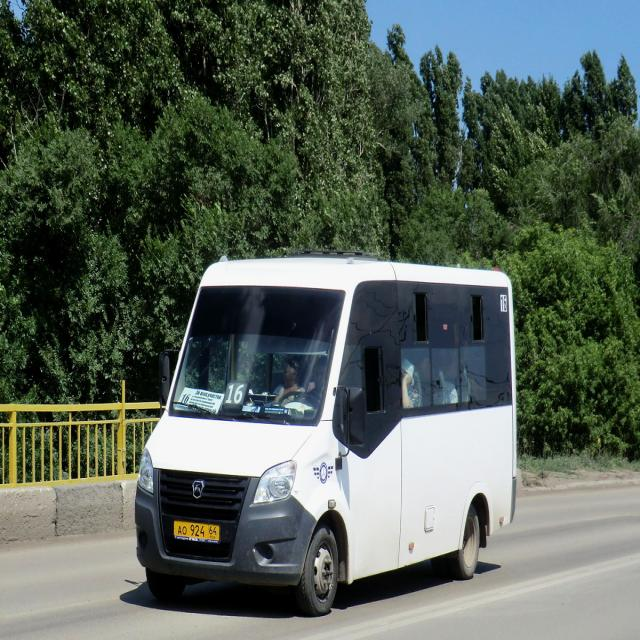number-of-bus: (226, 383, 248, 406), (182, 392, 193, 408)
